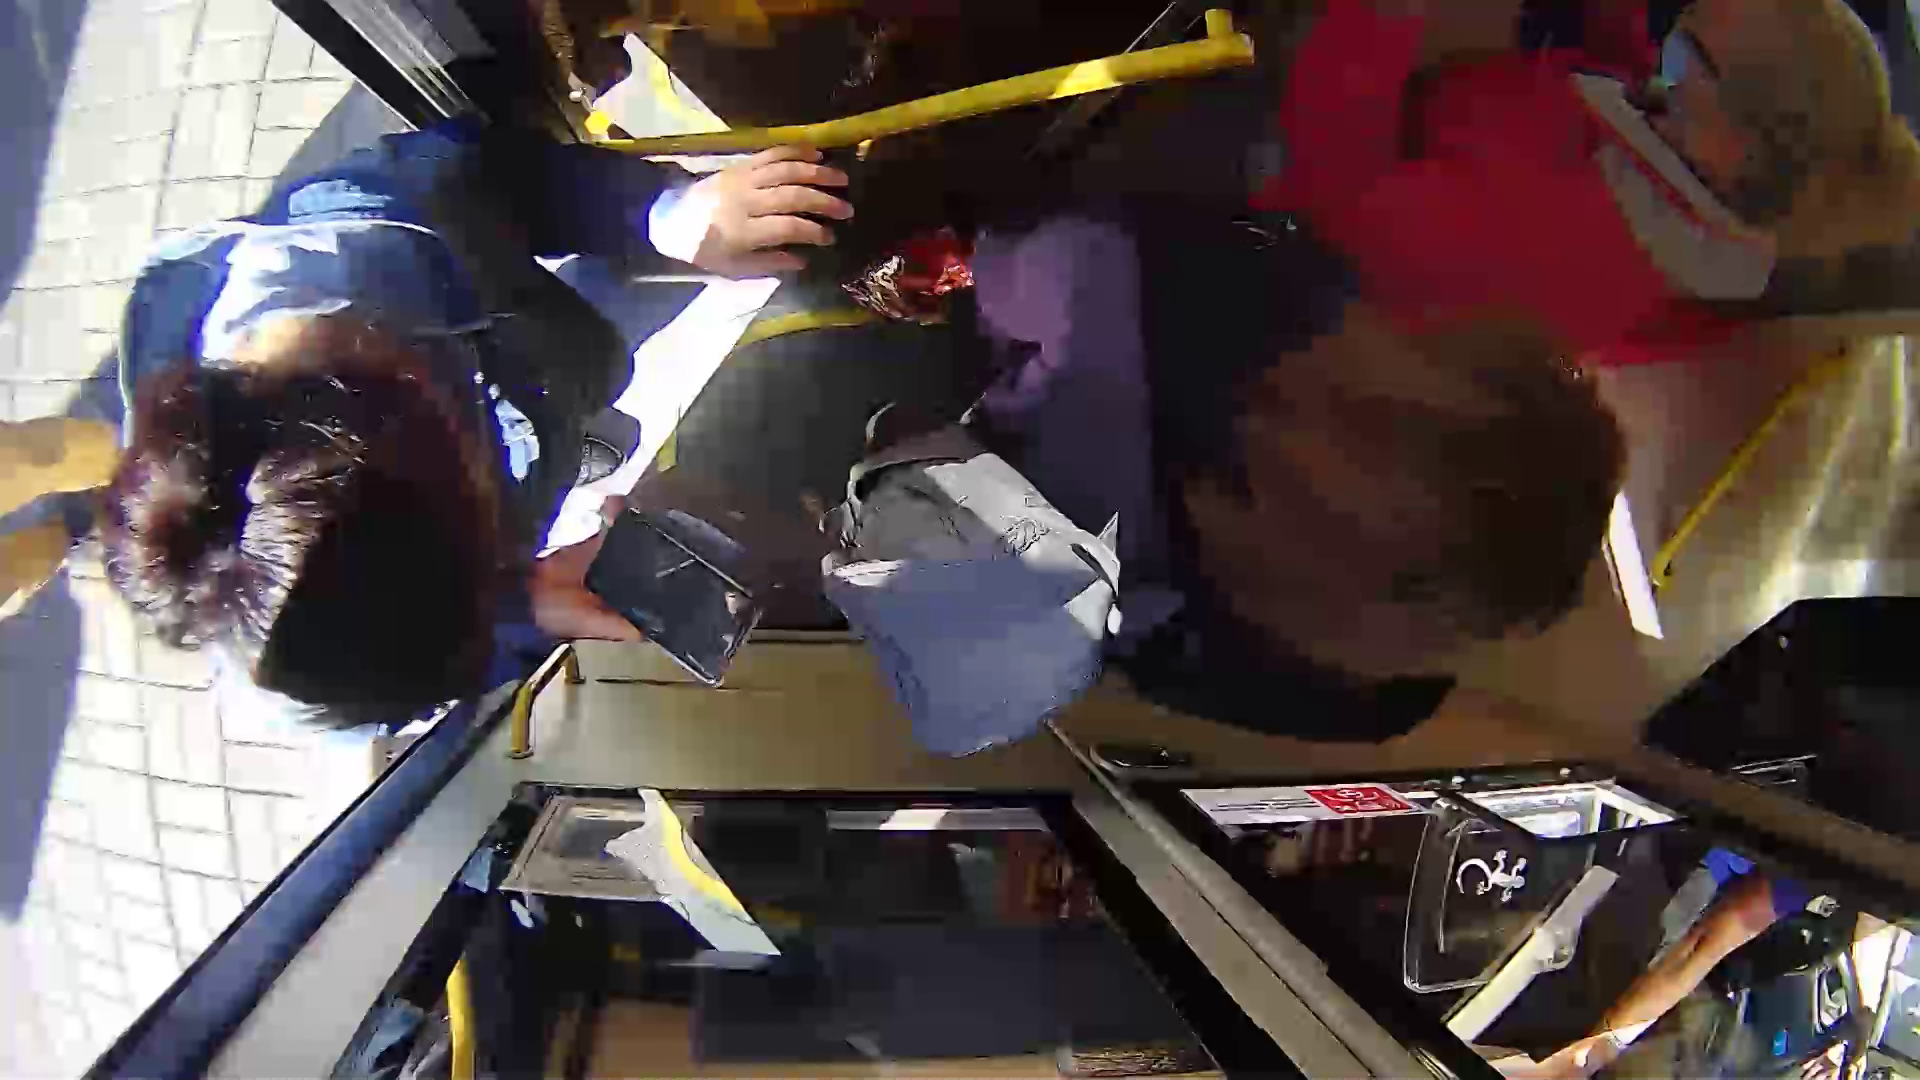person: (119, 73, 786, 724), (937, 191, 1611, 815)
